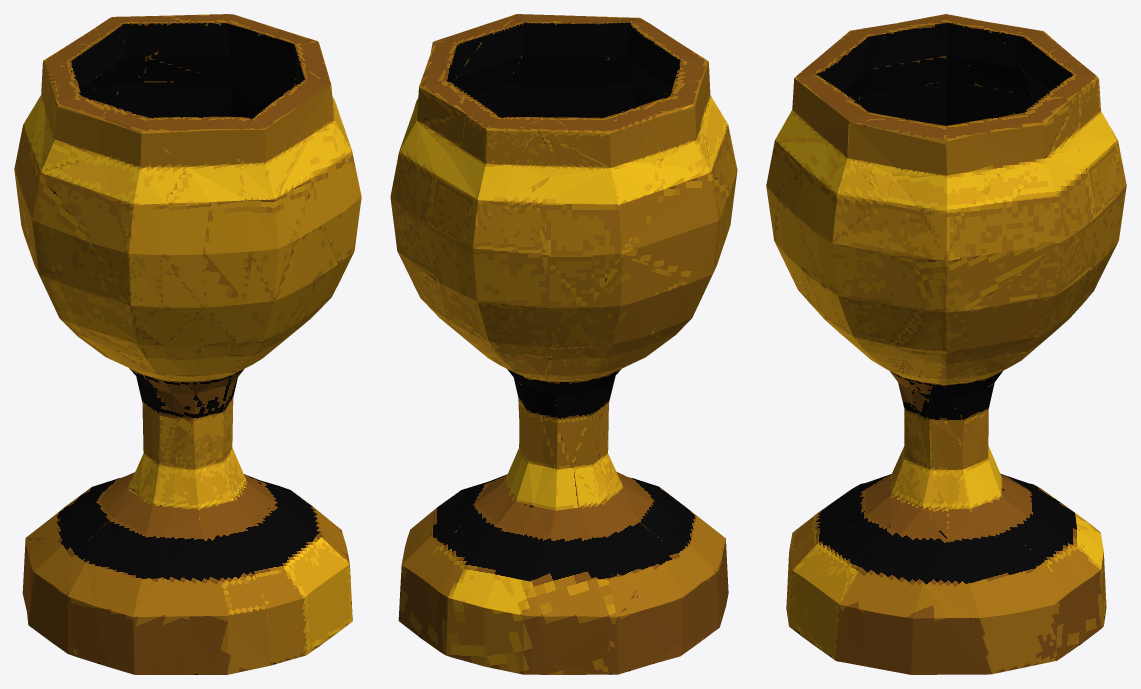
3 views of the same model, side by side, from view 1: azimuth 30°, elevation 25°; view 2: azimuth 150°, elevation 25°; view 3: azimuth 270°, elevation 25° (orthographic).
Parts seen in each view (by area): view 1: OBJ0a9; view 2: OBJ0a9; view 3: OBJ0a9.
Boxes of the visible parts, <box> form: OBJ0a9: <box>14,14,361,674</box>; OBJ0a9: <box>390,14,737,674</box>; OBJ0a9: <box>766,14,1126,674</box>.
Size of the model in its own units: 0.1608 by 0.2657 by 0.1626.
Materials: 1 (1 with a texture image).
